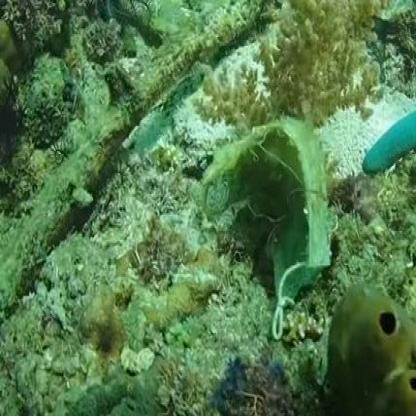misc: (242, 41, 336, 314)
